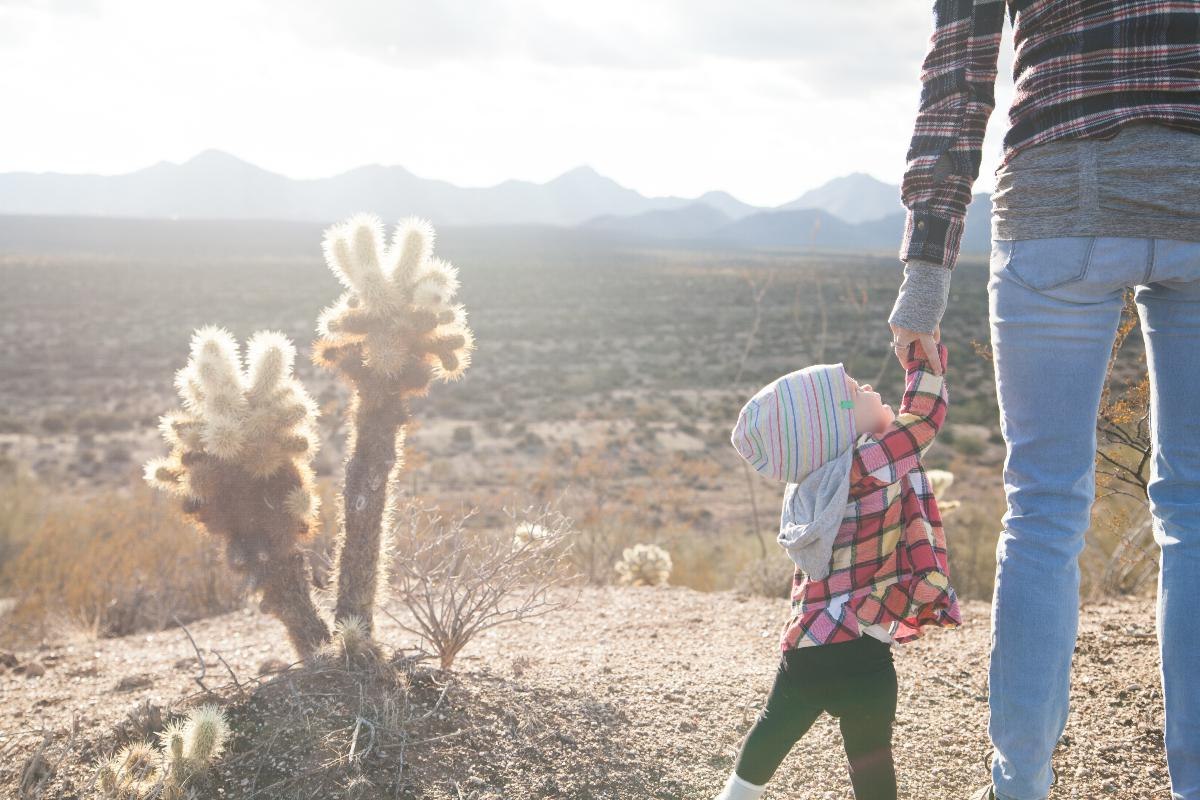Person: (895, 6, 1200, 791), (707, 320, 948, 800)
